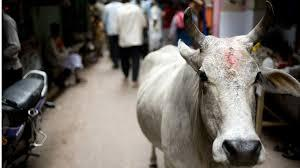cow: (136, 35, 299, 168)
